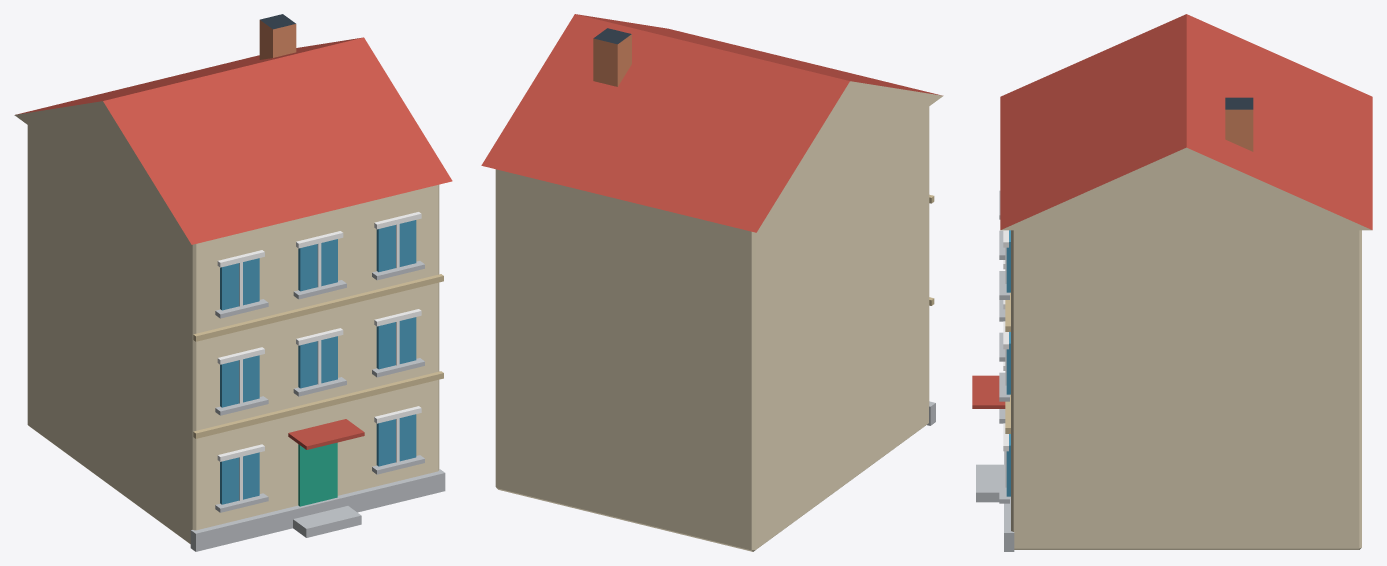
The model's file is townhouse_a.fbx.
3 views of the same model, side by side, from view 1: azimuth 30°, elevation 25°; view 2: azimuth 150°, elevation 25°; view 3: azimuth 270°, elevation 25° (orthographic). The views are drawn at different scales.
Parts seen in each view (by area): view 1: townhouse_a; view 2: townhouse_a; view 3: townhouse_a.
Boxes of the visible parts, <box> form: townhouse_a: <box>14,14,452,551</box>; townhouse_a: <box>481,14,943,551</box>; townhouse_a: <box>972,14,1372,551</box>.
Size of the model in its own units: 9 by 13.2 by 11.4.
